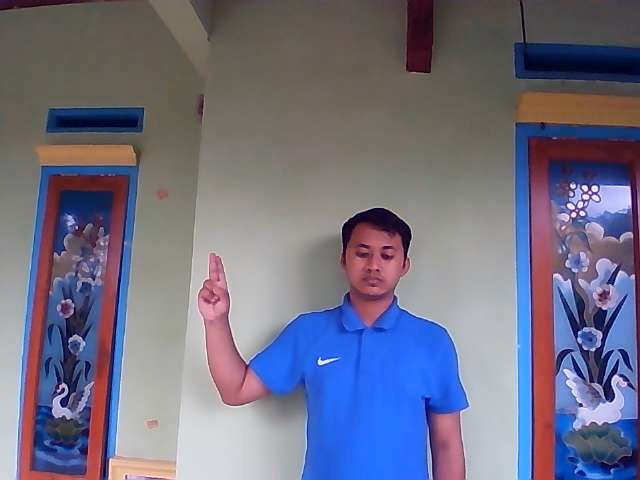U: (196, 252, 230, 320)
